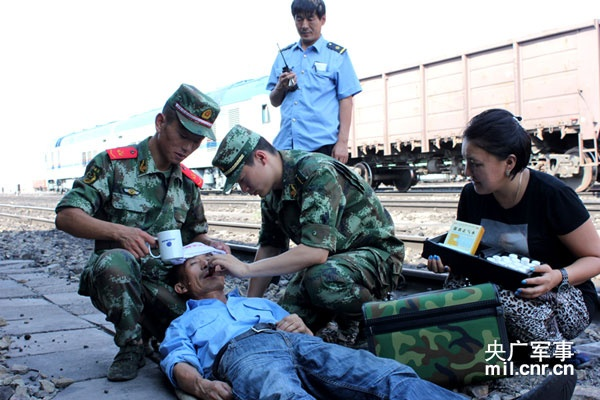falling: (143, 235, 588, 400)
